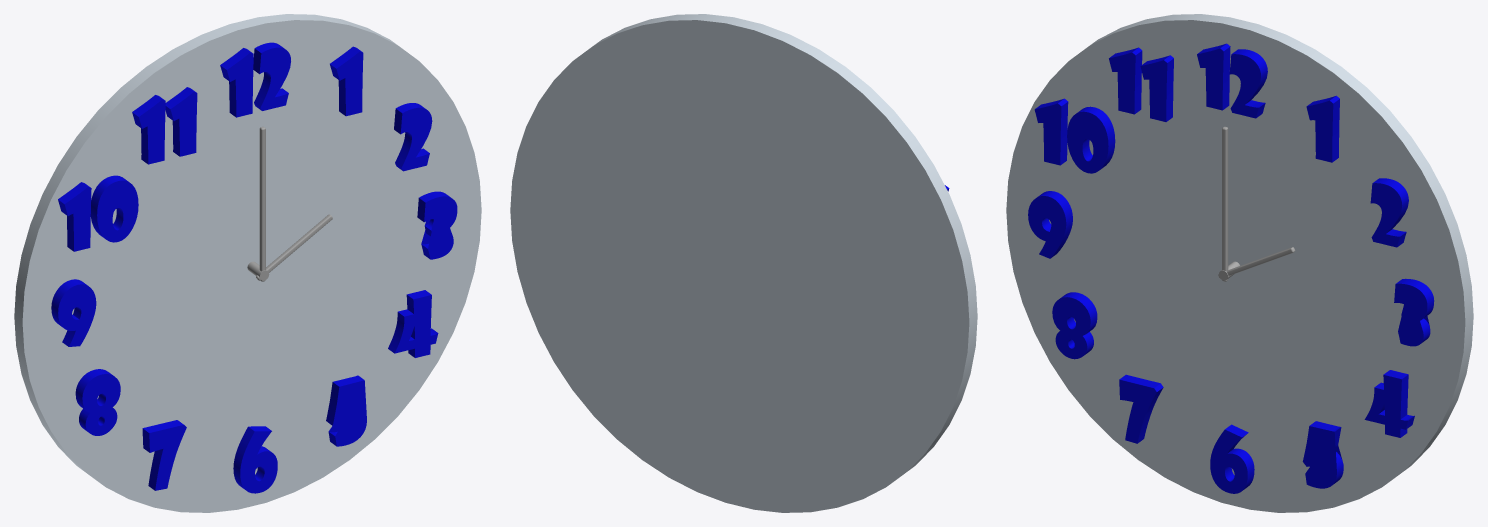
File: Mode03.fbx
3 views of the same model, side by side, from view 1: azimuth 30°, elevation 25°; view 2: azimuth 150°, elevation 25°; view 3: azimuth 330°, elevation 25° (orthographic).
Parts seen in each view (by area): view 1: Back1, NN10, NN12, NN11, NN5, NN8, NN6, NN4, NN9, NN3, NN2, NN7 (+3 smaller); view 2: Back1; view 3: Back1, NN10, NN12, NN11, NN8, NN5, NN6, NN9, NN4, NN3, NN2, NN7 (+2 smaller).
Boxes of the visible parts, <box> form: Back1: <box>14,14,481,512</box>; NN10: <box>58,175,138,251</box>; NN12: <box>220,42,290,117</box>; NN11: <box>132,87,197,164</box>; NN5: <box>326,375,366,446</box>; NN8: <box>75,369,120,435</box>; NN6: <box>233,426,277,493</box>; NN4: <box>388,290,438,357</box>; NN9: <box>51,279,96,346</box>; NN3: <box>417,191,457,259</box>; NN2: <box>394,103,432,171</box>; NN7: <box>142,420,186,490</box>; Back1: <box>510,14,977,512</box>; Back1: <box>1006,14,1473,512</box>; NN10: <box>1034,98,1115,173</box>; NN12: <box>1197,43,1267,118</box>; NN11: <box>1109,47,1173,121</box>; NN8: <box>1052,292,1097,359</box>; NN5: <box>1302,421,1343,488</box>; NN6: <box>1210,424,1254,493</box>; NN9: <box>1028,191,1072,258</box>; NN4: <box>1364,370,1414,437</box>; NN3: <box>1394,278,1434,346</box>; NN2: <box>1370,178,1408,247</box>; NN7: <box>1119,374,1163,443</box>.
Bounding box in the file's own units: 98.2 × 98 × 7.66.
